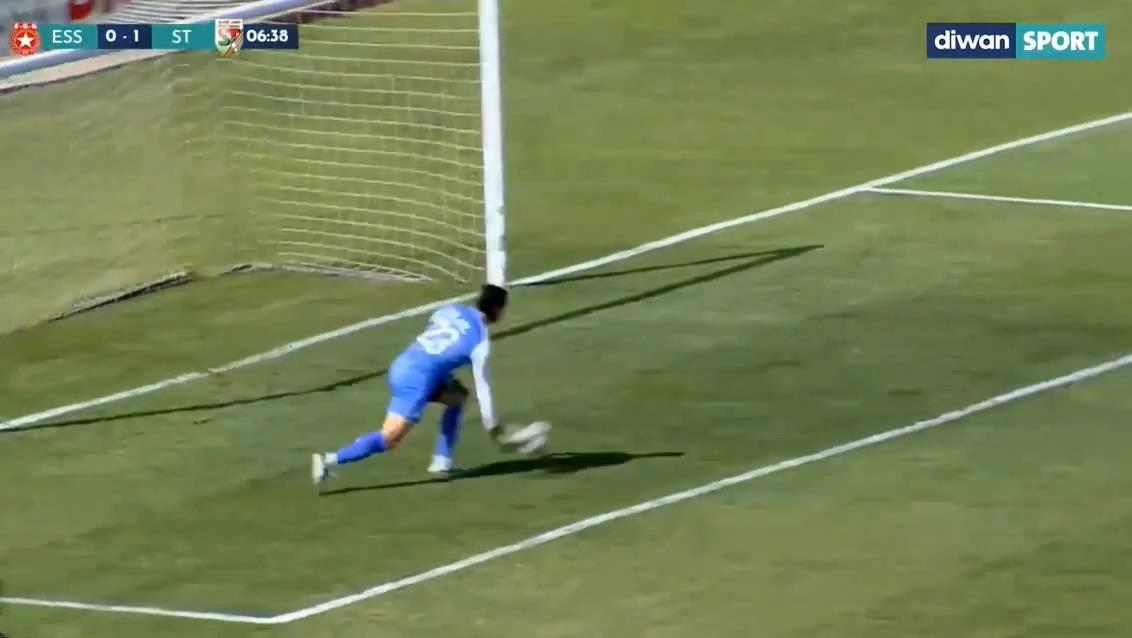ball: (493, 414, 568, 461)
goalkeeper: (286, 270, 505, 495)
